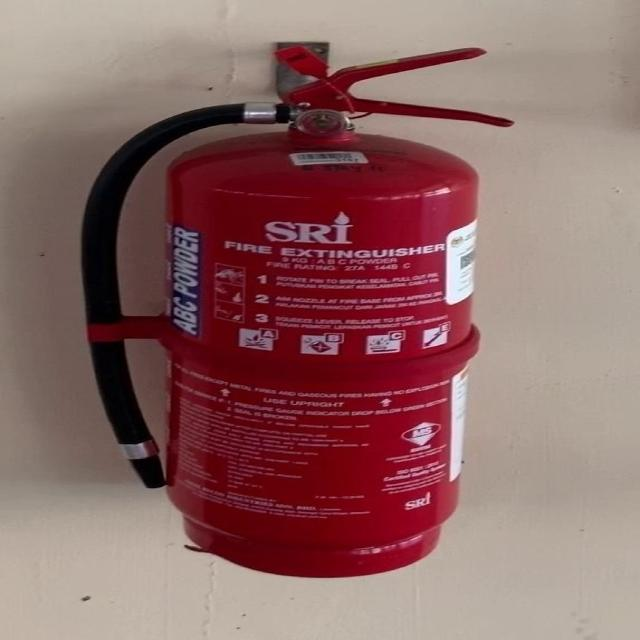fire_extinguisher: (71, 41, 520, 582)
